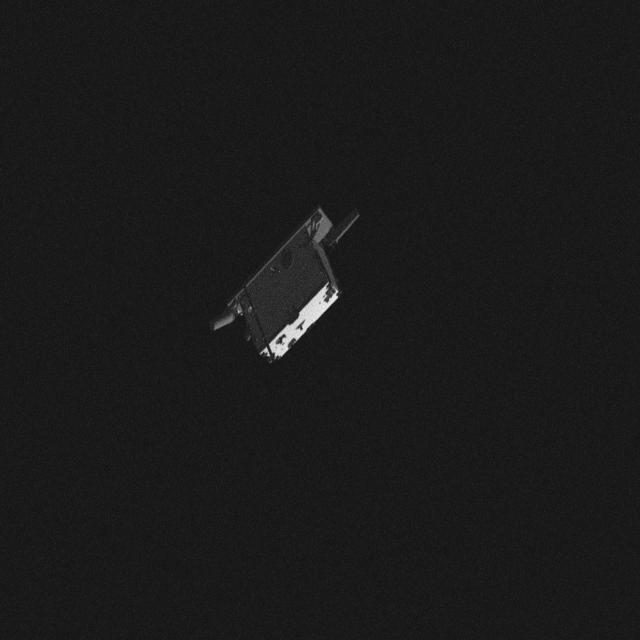medium_debris: (206, 200, 380, 362)
